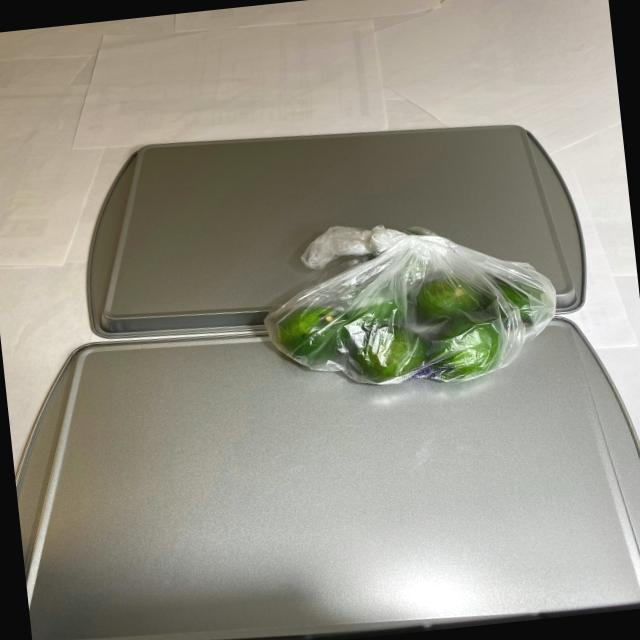lemon: (248, 262, 564, 399)
